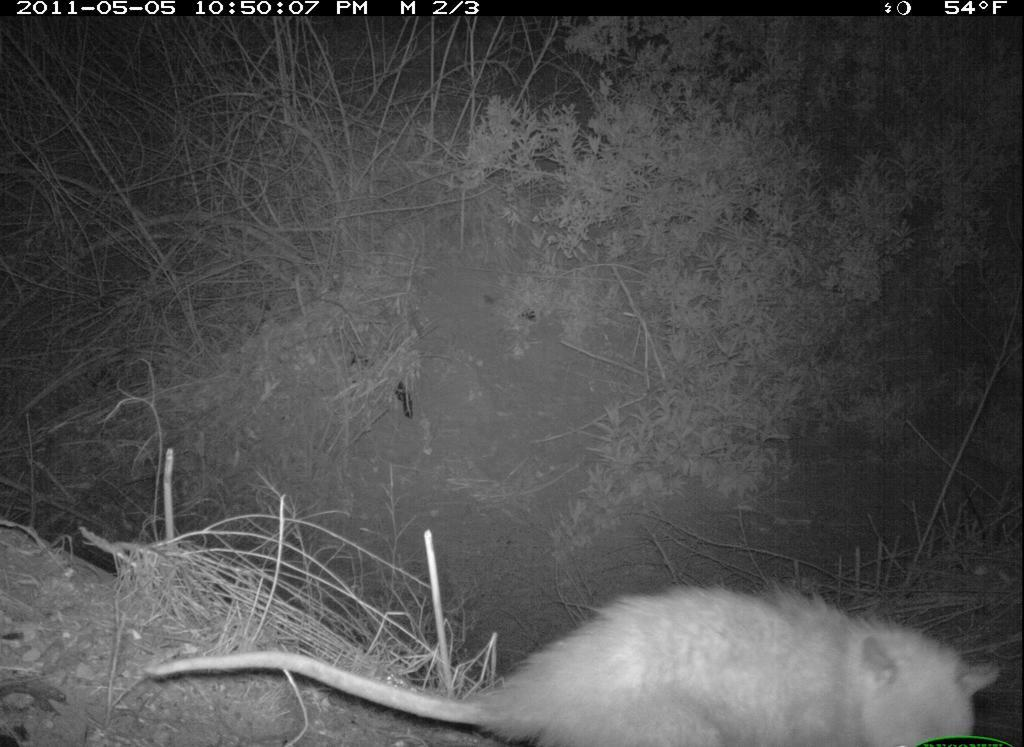opossum: (125, 534, 1018, 745)
